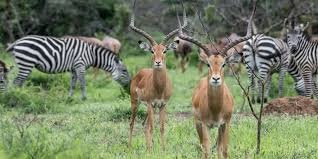impala: (173, 3, 257, 157), (125, 1, 189, 156)
zebra: (4, 31, 133, 105), (240, 30, 315, 100), (284, 17, 317, 101)
